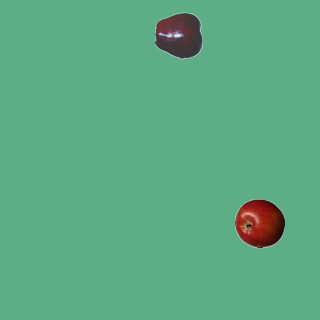Apple Braeburn: (234, 198, 284, 248)
Apple Red Delicious: (154, 10, 204, 60)
